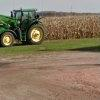Tractor: (0, 6, 50, 54)
